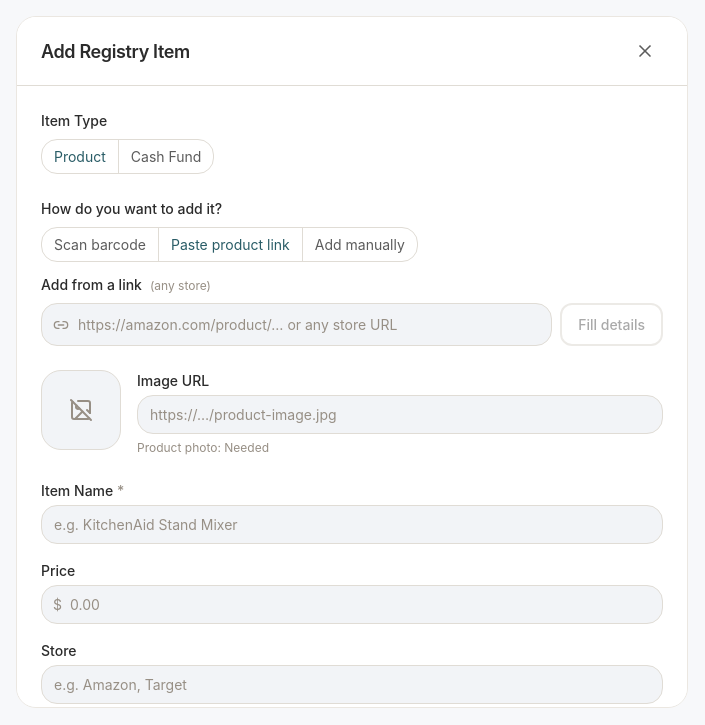
Scenario: RegistryItemForm › shows shared safe copy when link autofill fails
Type "https://example.com/product" into the field with placeholder "https://amazon.com/product/… or any store URL". click: (297, 325)
box: [41, 303, 552, 346]
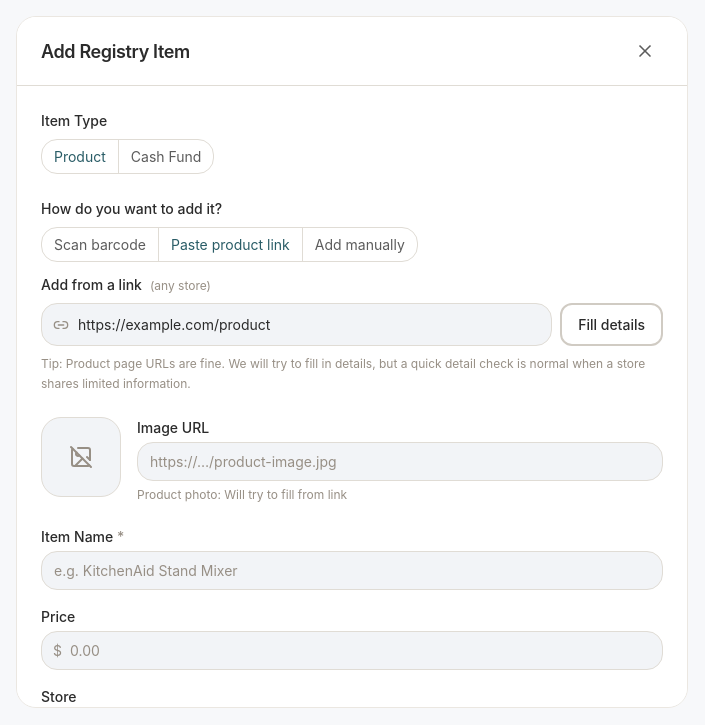
Click the button "Fill details". click: (612, 325)
box: [560, 303, 663, 346]
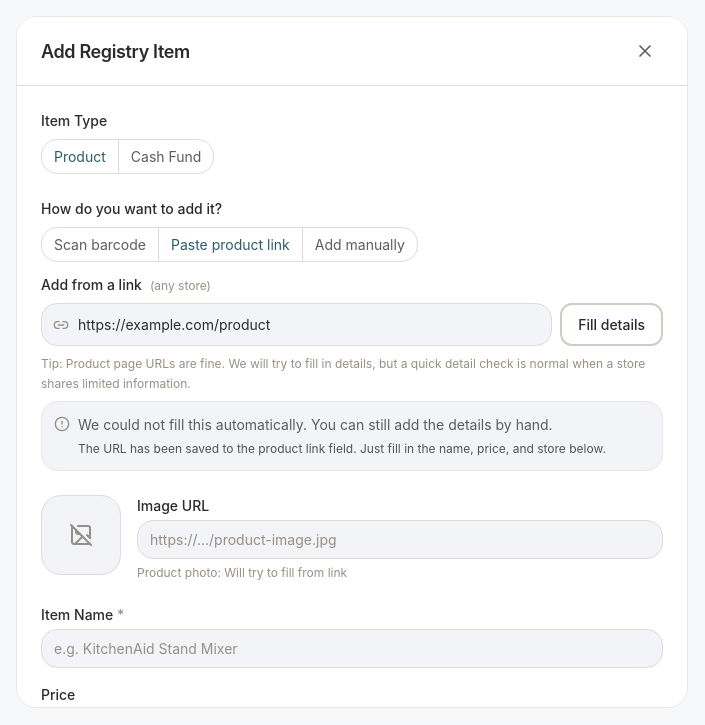
Now the text "We could not fill this automatically. You can still add the details by hand." is shown, box [78, 416, 553, 433]
